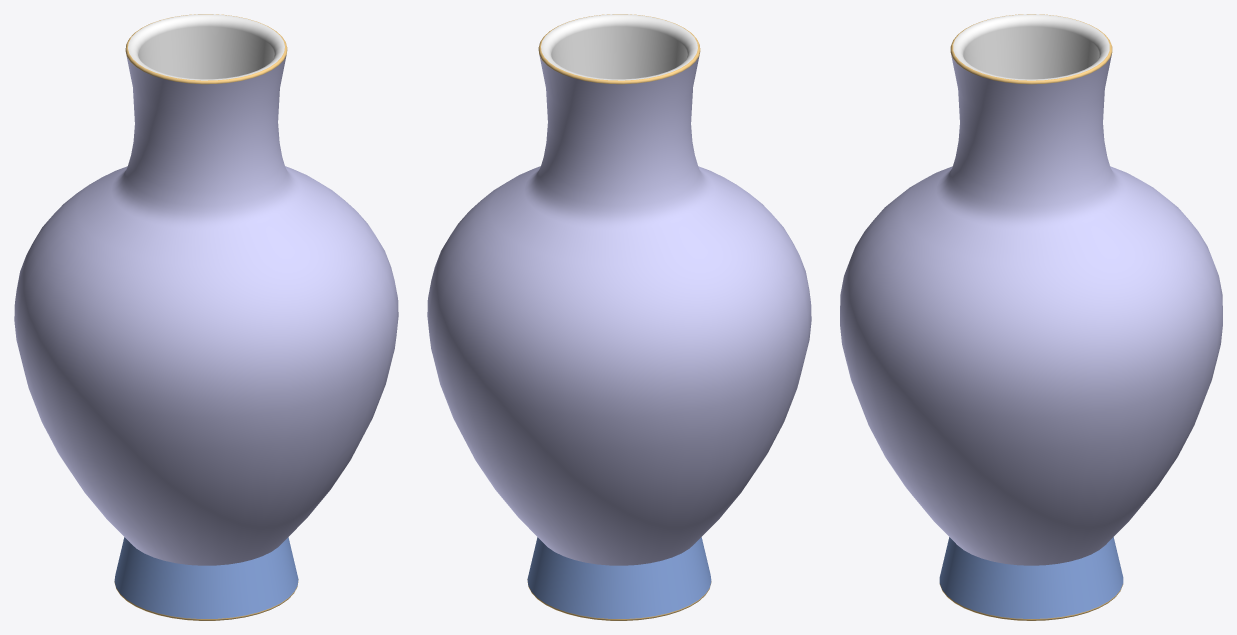
The model's file is Vase.glb.
3 renders of one model, left to right at view 1: azimuth 30°, elevation 25°; view 2: azimuth 150°, elevation 25°; view 3: azimuth 270°, elevation 25°, orthographic.
Parts seen in each view (by area): view 1: object1; view 2: object1; view 3: object1.
Part boxes in pixels (x1,y1,x2,y2): object1: [14, 14, 398, 620]; object1: [427, 14, 811, 620]; object1: [840, 14, 1222, 620].
Bounding box in the file's own units: 10.18 × 15.65 × 10.14.
